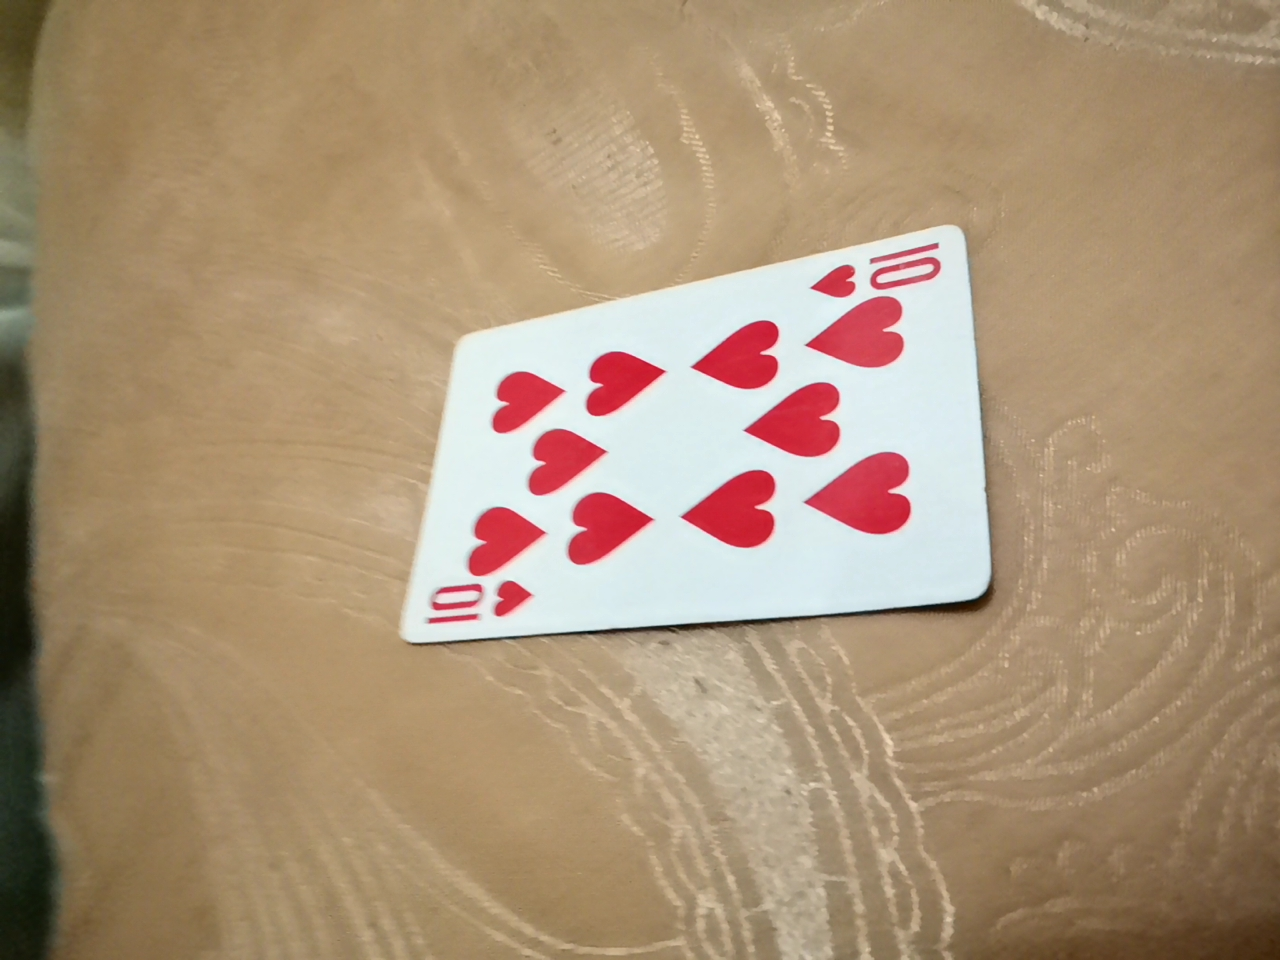hx 10: (371, 261, 973, 684)
